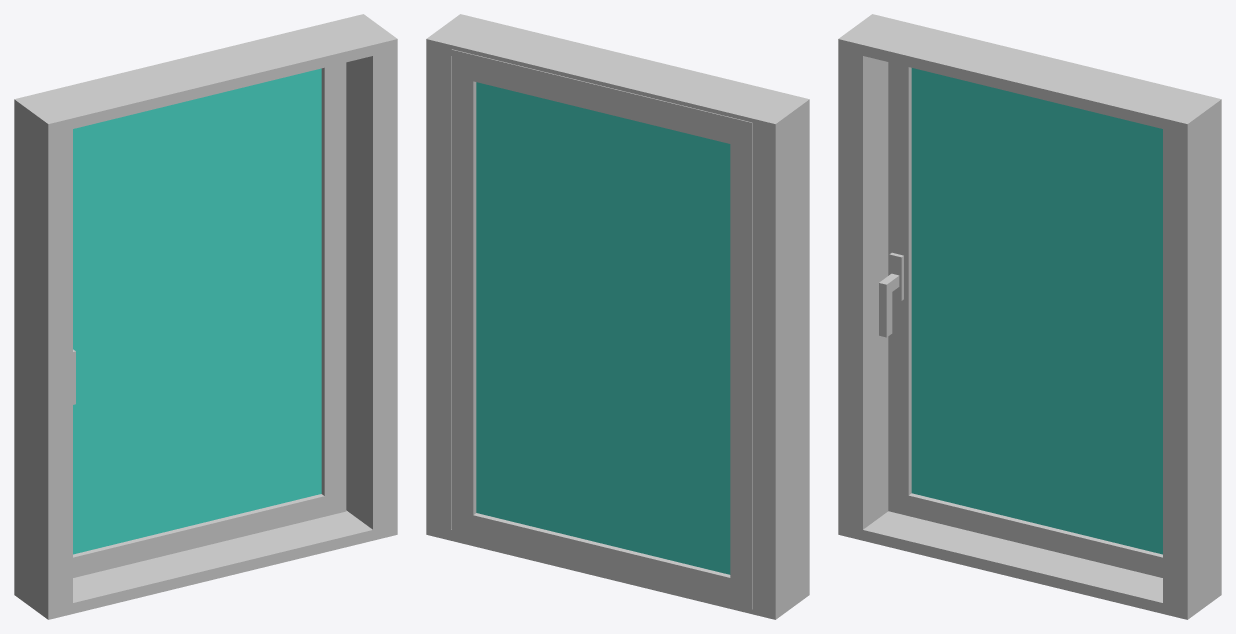
File: window_short.fbx
3 renders of one model, left to right at view 1: azimuth 30°, elevation 25°; view 2: azimuth 150°, elevation 25°; view 3: azimuth 330°, elevation 25°, orthographic.
Parts seen in each view (by area): view 1: Assets_short_window_left|Cube.104|Dupli|1, Assets_short_window_left|Cube.105|Dupli|; view 2: Assets_short_window_left|Cube.104|Dupli|1, Assets_short_window_left|Cube.105|Dupli|; view 3: Assets_short_window_left|Cube.104|Dupli|1, Assets_short_window_left|Cube.105|Dupli|.
Boxes of the visible parts, x1,y1,x2,y2 form: Assets_short_window_left|Cube.104|Dupli|1: (73, 62, 346, 577); Assets_short_window_left|Cube.105|Dupli|: (14, 14, 397, 619); Assets_short_window_left|Cube.104|Dupli|1: (451, 49, 752, 609); Assets_short_window_left|Cube.105|Dupli|: (426, 14, 809, 619); Assets_short_window_left|Cube.104|Dupli|1: (879, 62, 1162, 577); Assets_short_window_left|Cube.105|Dupli|: (838, 14, 1221, 619).
Size of the model in its own units: 1 by 1.36 by 0.1724.
